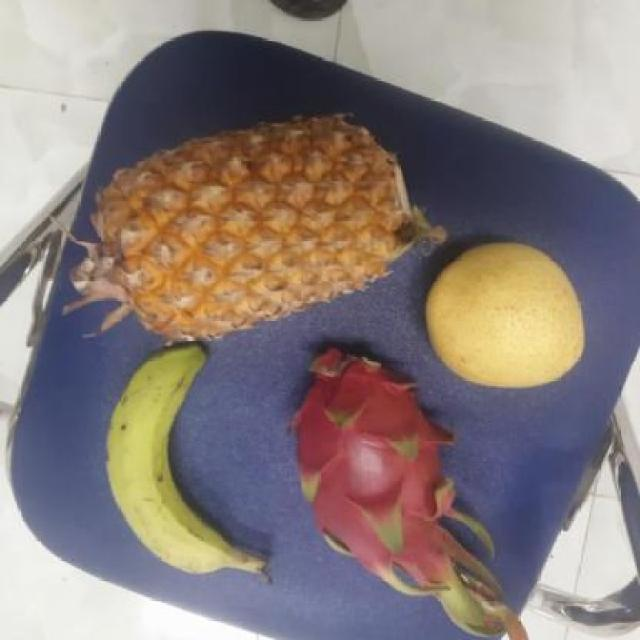banana: (99, 350, 259, 572)
dragon fruit: (283, 348, 468, 574)
pear: (426, 238, 586, 398)
pineapple: (69, 124, 422, 347)
